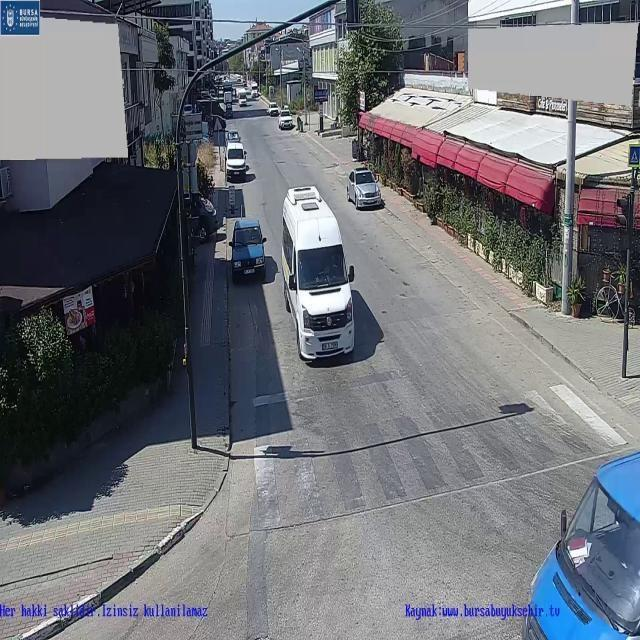Bus: (278, 186, 354, 368)
Car: (228, 219, 265, 283), (346, 163, 388, 213), (222, 141, 250, 182), (265, 97, 285, 119), (279, 110, 299, 132), (236, 90, 250, 108)
Van: (516, 455, 640, 634)
